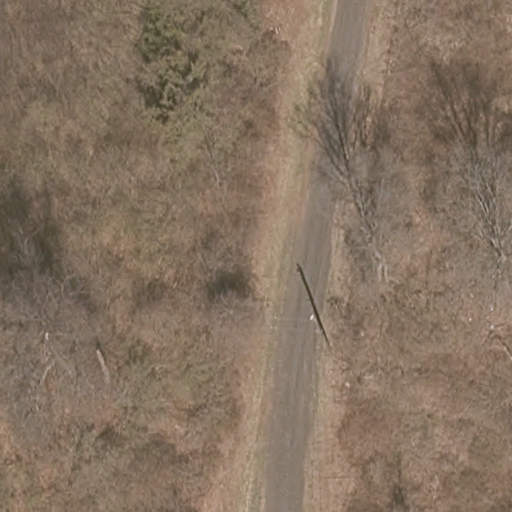DT: (308, 313, 334, 352)
